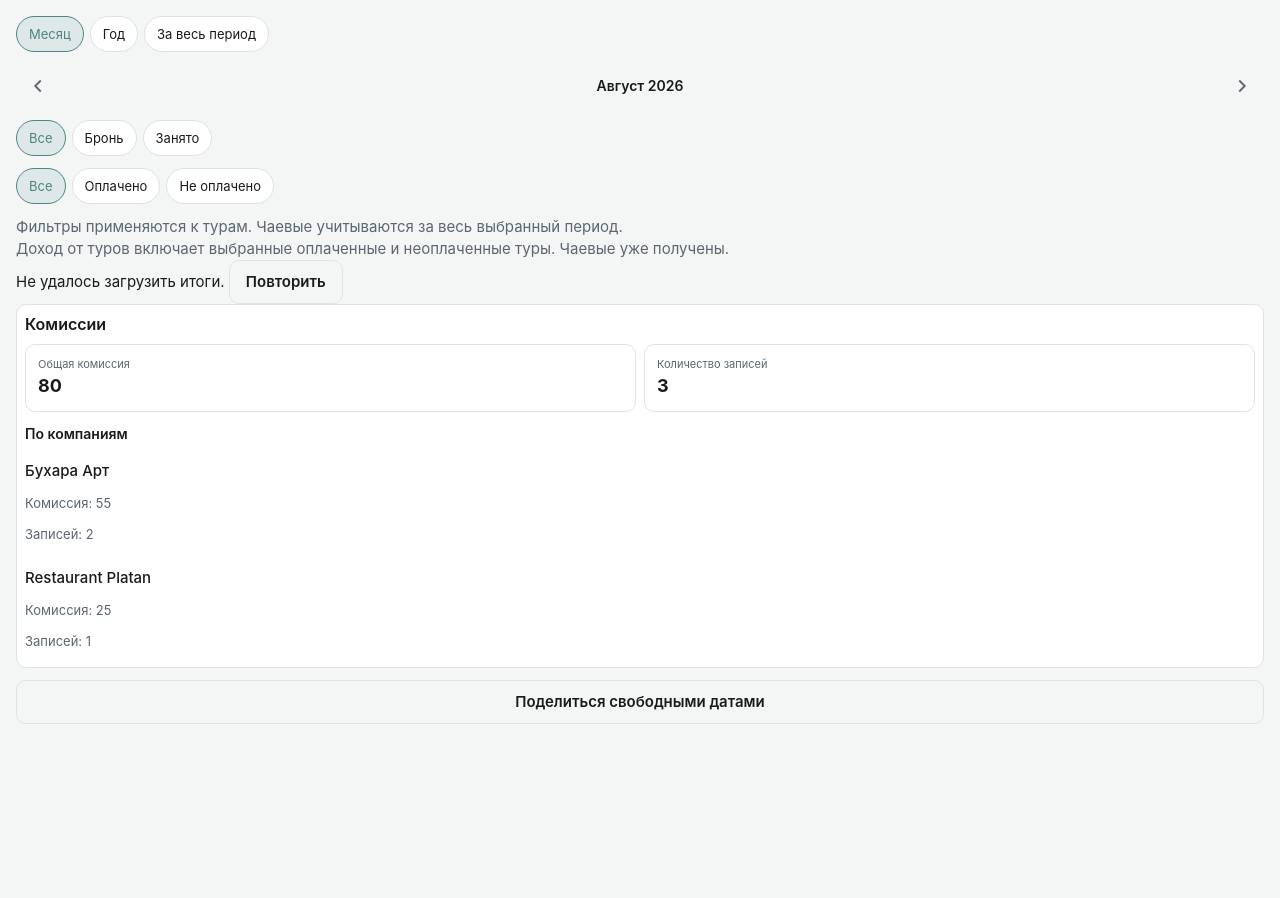
Test: shows report failure and allows retry without presenting false zero income
The width and height of the screenshot is (1280, 898).
Check: the text "Не удалось загрузить итоги. Повторить" is shown, box [16,260,343,304]
Click the button "Повторить" at (286, 282), box [229,260,343,304]
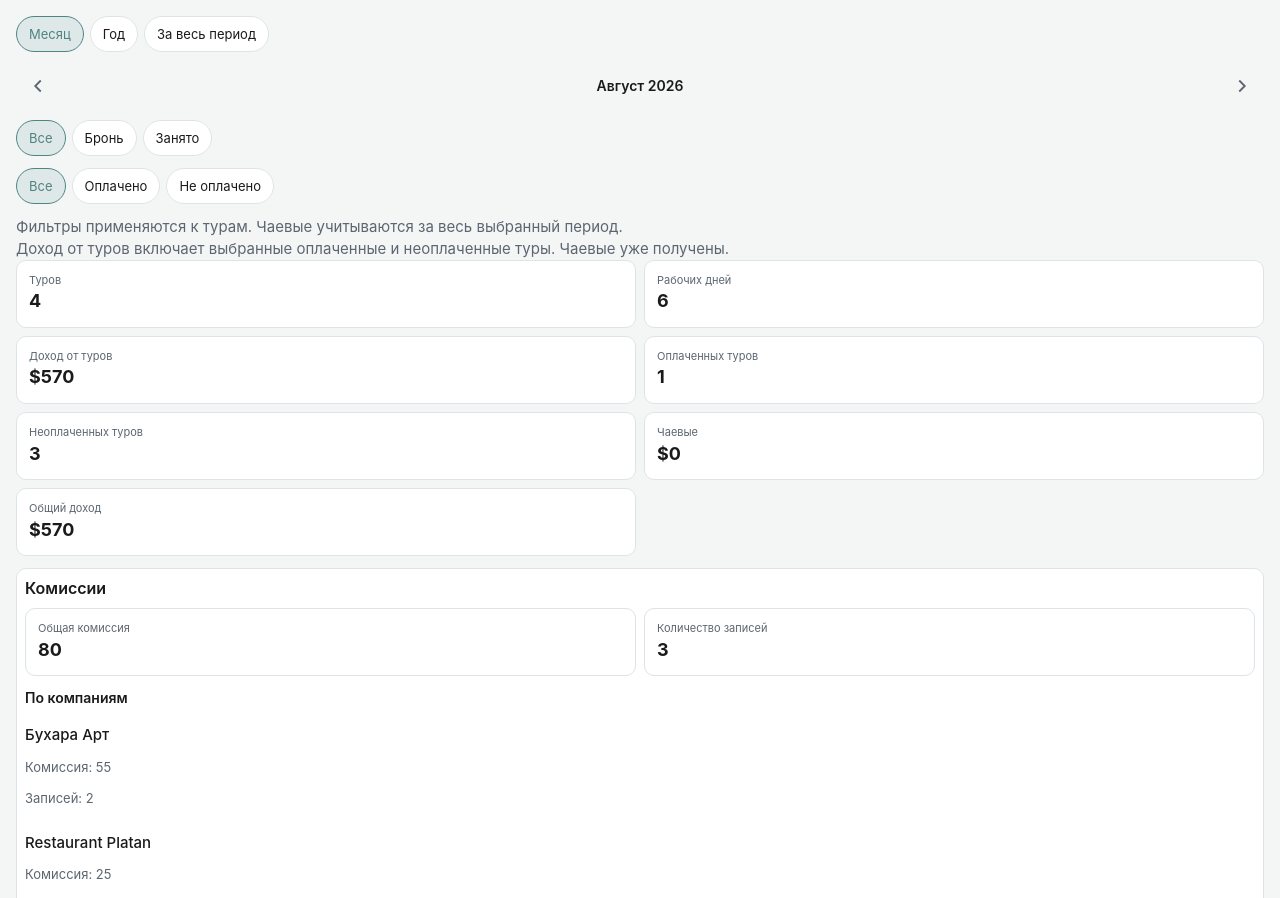
Check: the element with test id "tour-reports-summary" is shown, box [16,260,1264,556]
